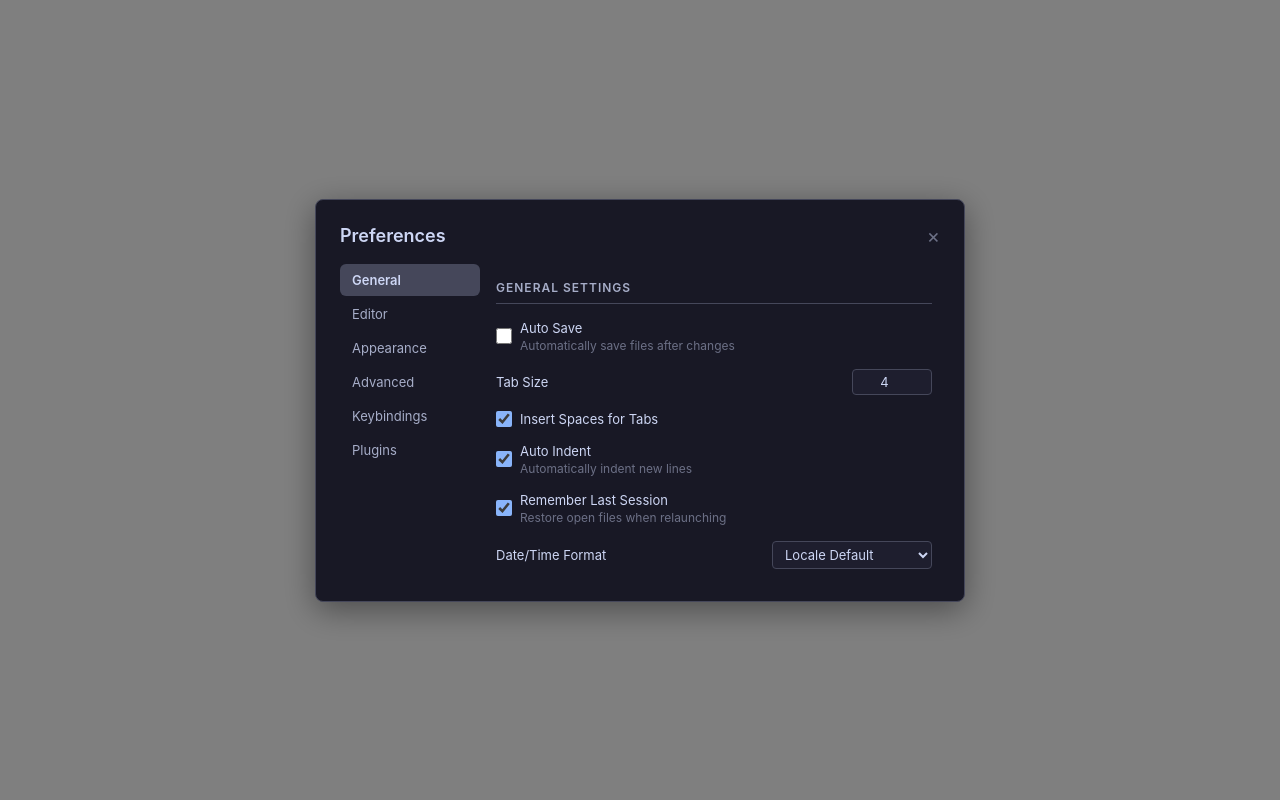
it: SettingsDialogViewPresenter › navigates to Editor section when Editor tab is clicked
The image size is (1280, 800).
Click the text "Editor" at (370,314), box [352,306,388,322]
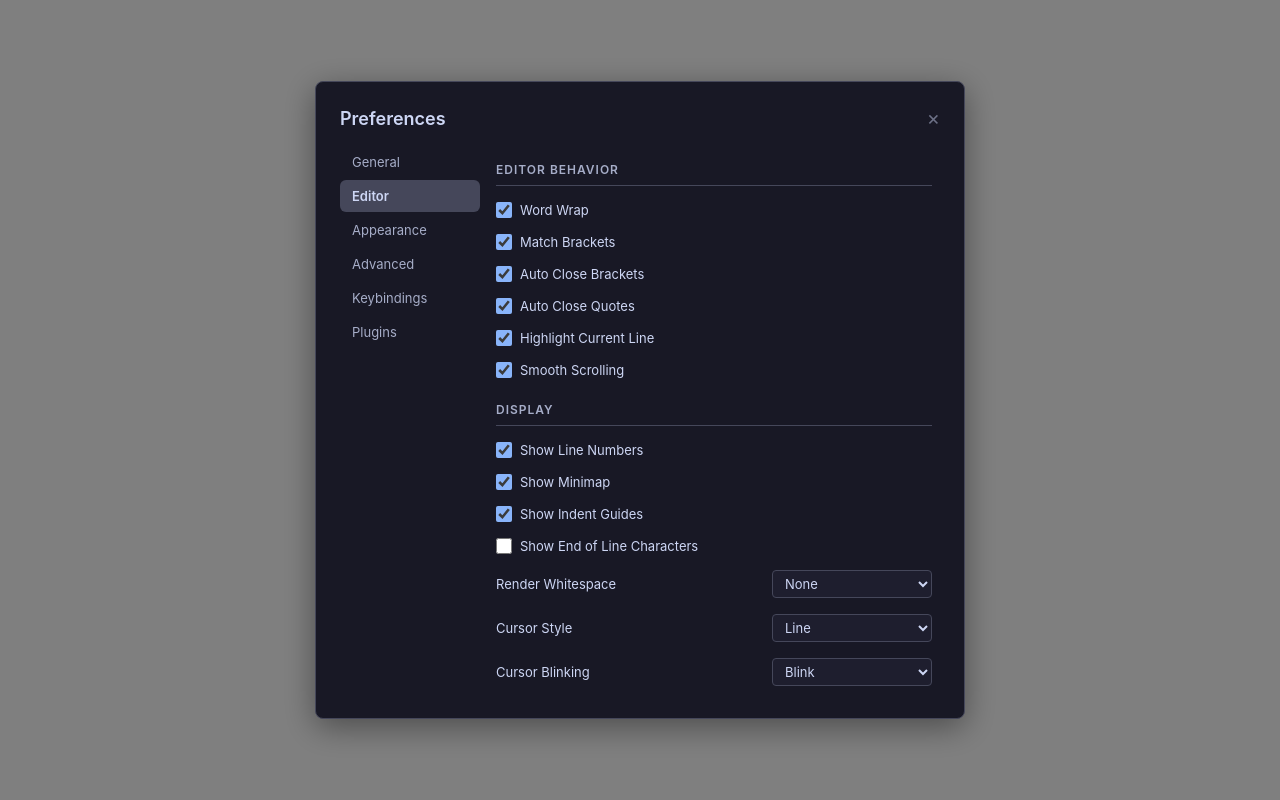
expect the text "Word Wrap" is shown: met, box [520,202,589,218]
expect the text "Match Brackets" is shown: met, box [520,234,616,250]
